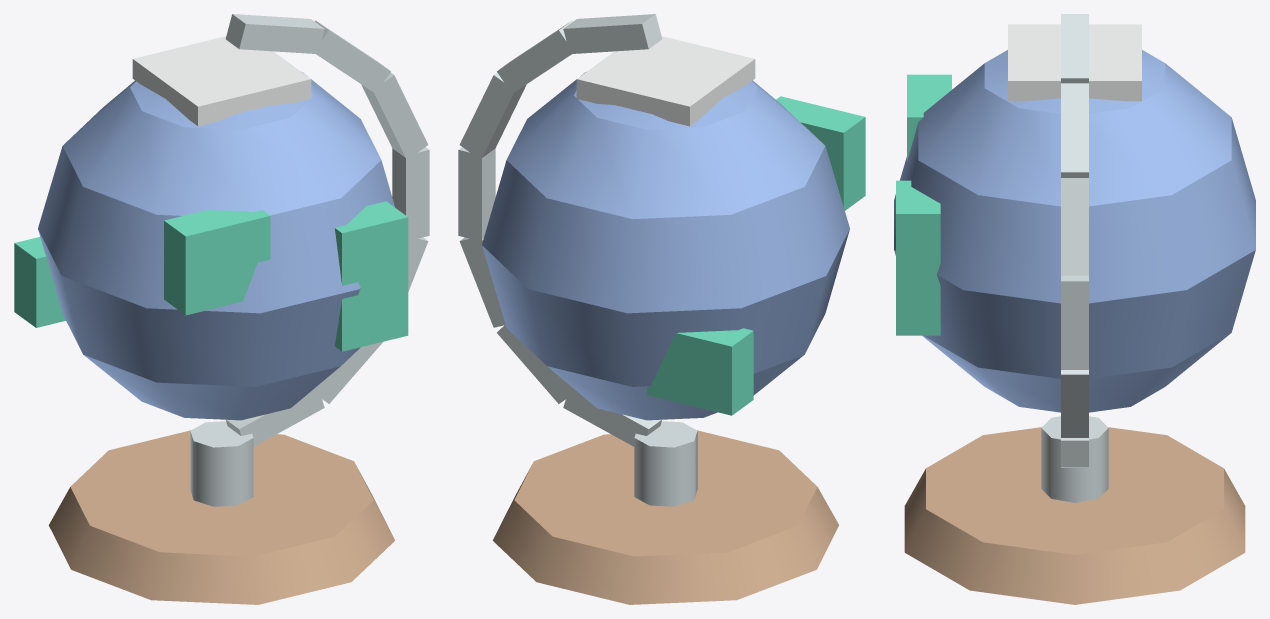
The model's file is globeDesk.glb.
3 renders of one model, left to right at view 1: azimuth 30°, elevation 25°; view 2: azimuth 150°, elevation 25°; view 3: azimuth 270°, elevation 25°, orthographic. The views are drawn at different scales.
Visible parts, largest first — view 1: globeDesk; view 2: globeDesk; view 3: globeDesk.
Part boxes in pixels (left/top/right/bottom): globeDesk: left=14, top=14, right=429, bottom=604; globeDesk: left=458, top=14, right=865, bottom=604; globeDesk: left=894, top=14, right=1255, bottom=604.
Size of the model in its own units: 0.1914 by 0.2582 by 0.1617.
